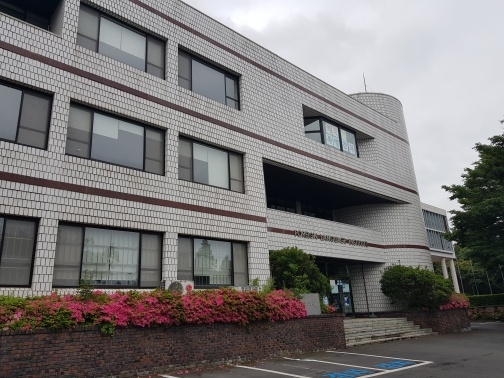Foreign Language Institute: (9, 2, 438, 344), (258, 194, 427, 348), (57, 92, 254, 205)
